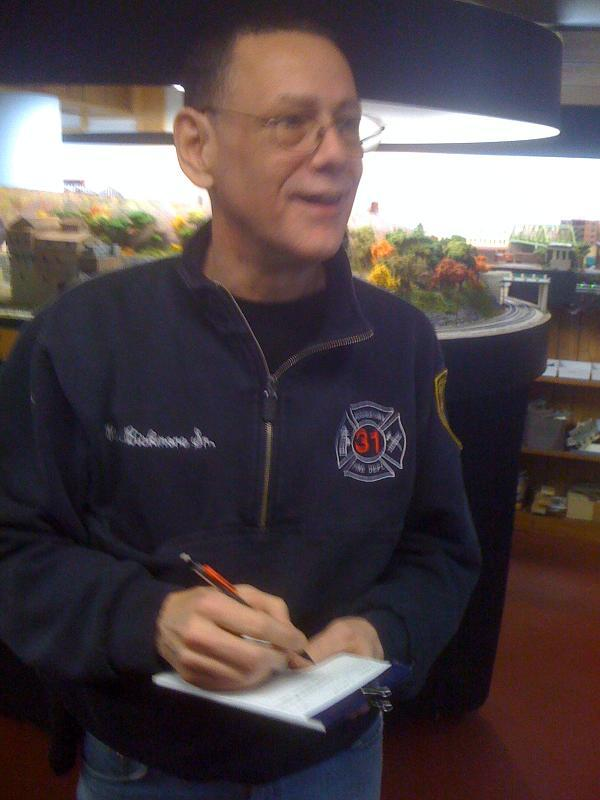person: (4, 13, 474, 797)
